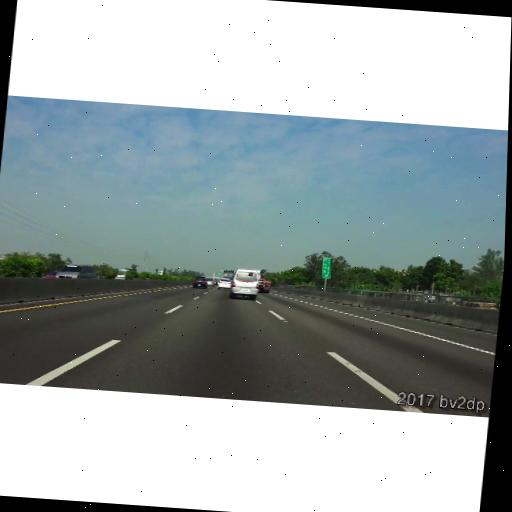Car: (229, 268, 261, 300), (56, 262, 97, 280), (217, 278, 232, 290), (193, 276, 208, 288), (204, 278, 215, 287), (212, 279, 217, 285)
